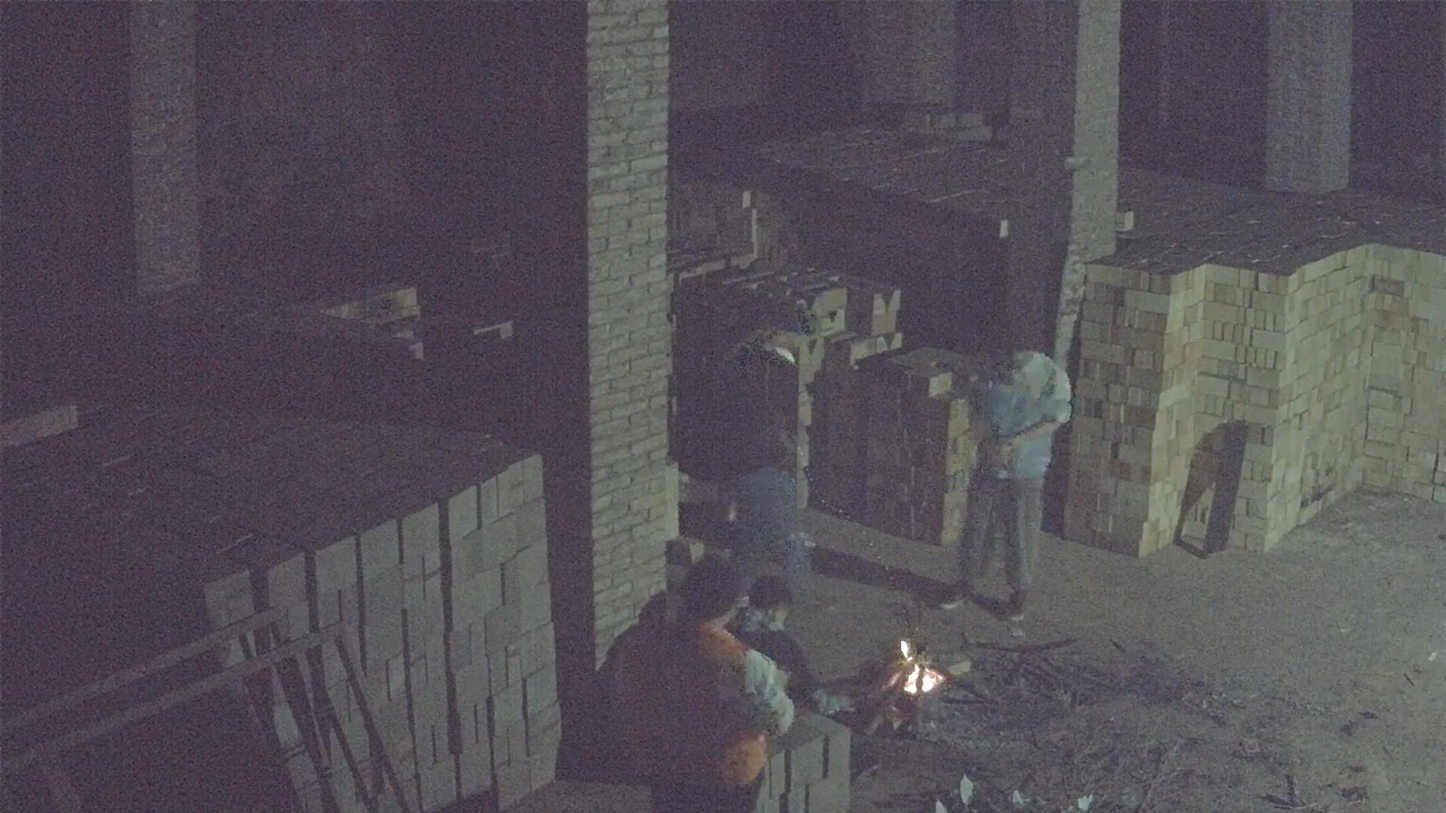fire: (905, 665, 944, 694)
